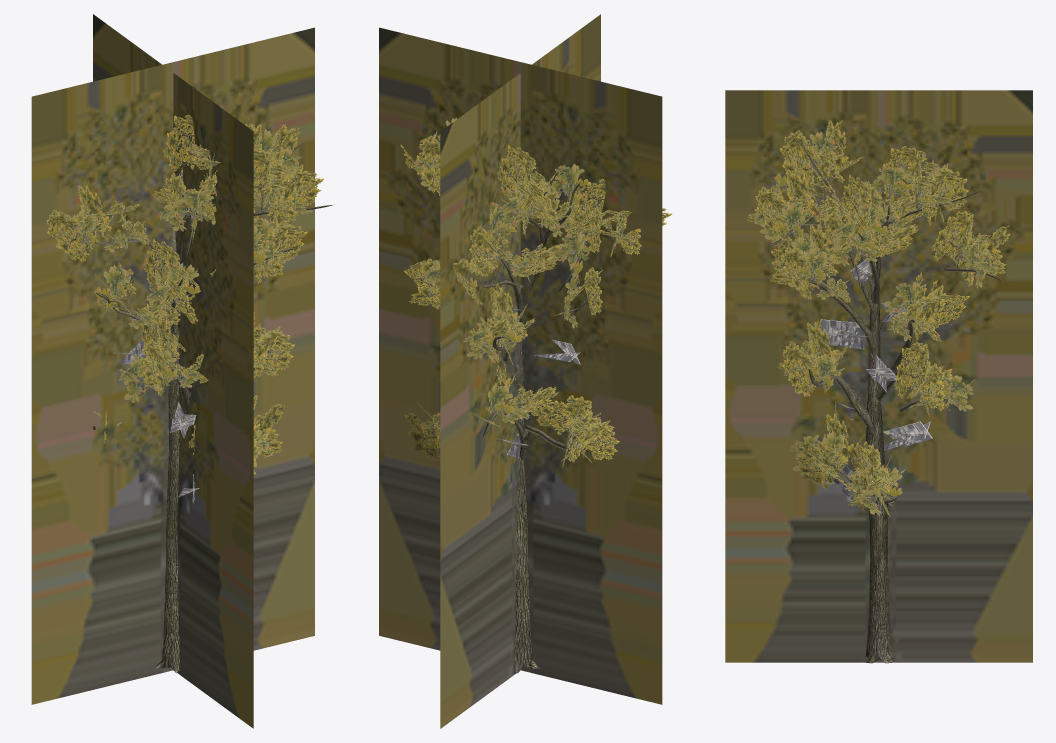
The model's file is Tree-Oak0B.fbx.
The picture shows the model from 3 angles, left to right: view 1: azimuth 30°, elevation 25°; view 2: azimuth 150°, elevation 25°; view 3: azimuth 270°, elevation 25°; orthographic projection. The views are drawn at different scales.
Parts seen in each view (by area): view 1: Billboard-Oak0B, Tree-Oak0B_LOD0; view 2: Billboard-Oak0B, Tree-Oak0B_LOD0; view 3: Billboard-Oak0B, Tree-Oak0B_LOD0.
Boxes of the visible parts, x1=… form: Billboard-Oak0B: x1=31, y1=14, x2=314, y2=728; Tree-Oak0B_LOD0: x1=46, y1=114, x2=334, y2=673; Billboard-Oak0B: x1=379, y1=14, x2=662, y2=728; Tree-Oak0B_LOD0: x1=400, y1=117, x2=672, y2=673; Billboard-Oak0B: x1=725, y1=90, x2=1032, y2=662; Tree-Oak0B_LOD0: x1=746, y1=120, x2=1010, y2=663.
Size of what is drawn, in the model's own units: 1446 by 2800 by 1379.
